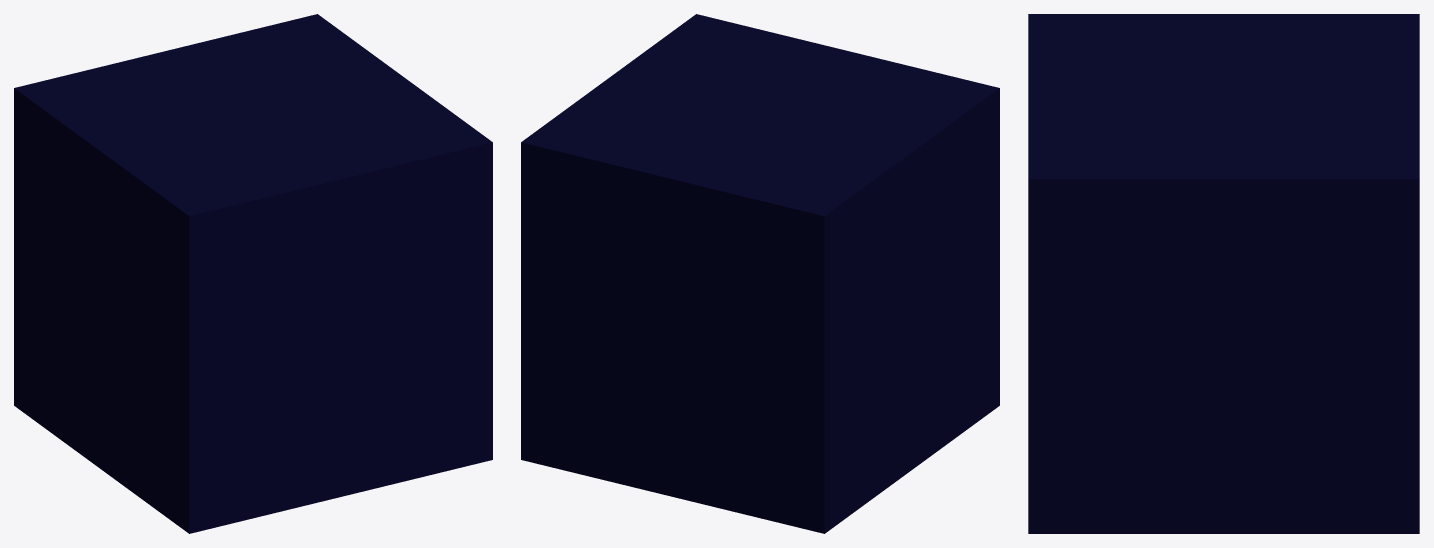
The model's file is rainbow_course-rainbow_course_V.glb.
The picture shows the model from 3 angles, left to right: view 1: azimuth 30°, elevation 25°; view 2: azimuth 150°, elevation 25°; view 3: azimuth 270°, elevation 25°; orthographic projection. The views are drawn at different scales.
Visible parts, largest first — view 1: rainbow_course_V; view 2: rainbow_course_V; view 3: rainbow_course_V.
Part boxes in pixels (<box>): rainbow_course_V: <box>14,14,492,533</box>; rainbow_course_V: <box>521,14,999,533</box>; rainbow_course_V: <box>1028,14,1419,533</box>.
Bounding box in the file's own units: 1240 × 1240 × 1240.
4 materials, 4 textured.
